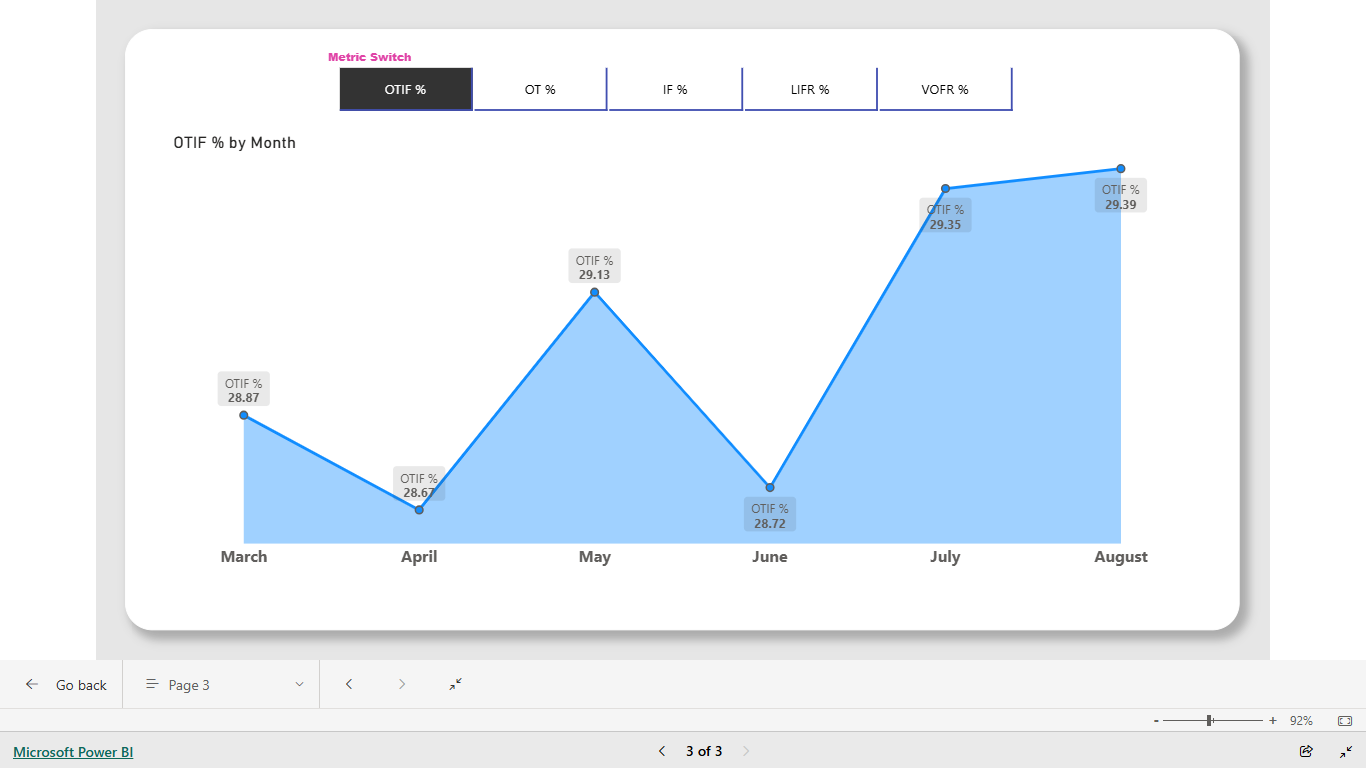

The dashboard page shown, as its layout file describes it:
{"tool":"powerbi","page":{"name":"Page 3","canvas":[1280,720],"ordinal":2},"visuals":[{"type":"shape","box":[32,32,1216,656],"z":0},{"type":"slicer","fields":{"Values":["Metric Switch.Metric Switch"]},"box":[240,48,784,80],"z":1000},{"type":"lineChart","fields":{"Y":["All Mesures.OTIF %"],"Category":["dim_date.date.Variation.Date Hierarchy.Month"]},"box":[80,144,1120,480],"z":2000}]}

Visuals, with their boxes on the page's 1280x720 design canvas (x1, y1, x2, y2). These are canvas units, not pixel positions in the 1366x768 screenshot, which may show the page scaled, cropped or inside an application window:
shape: Rect(32, 32, 1248, 688)
slicer - Metric Switch.Metric Switch: Rect(240, 48, 1024, 128)
lineChart - All Mesures.OTIF % x dim_date.date.Variation.Date Hierarchy.Month: Rect(80, 144, 1200, 624)
